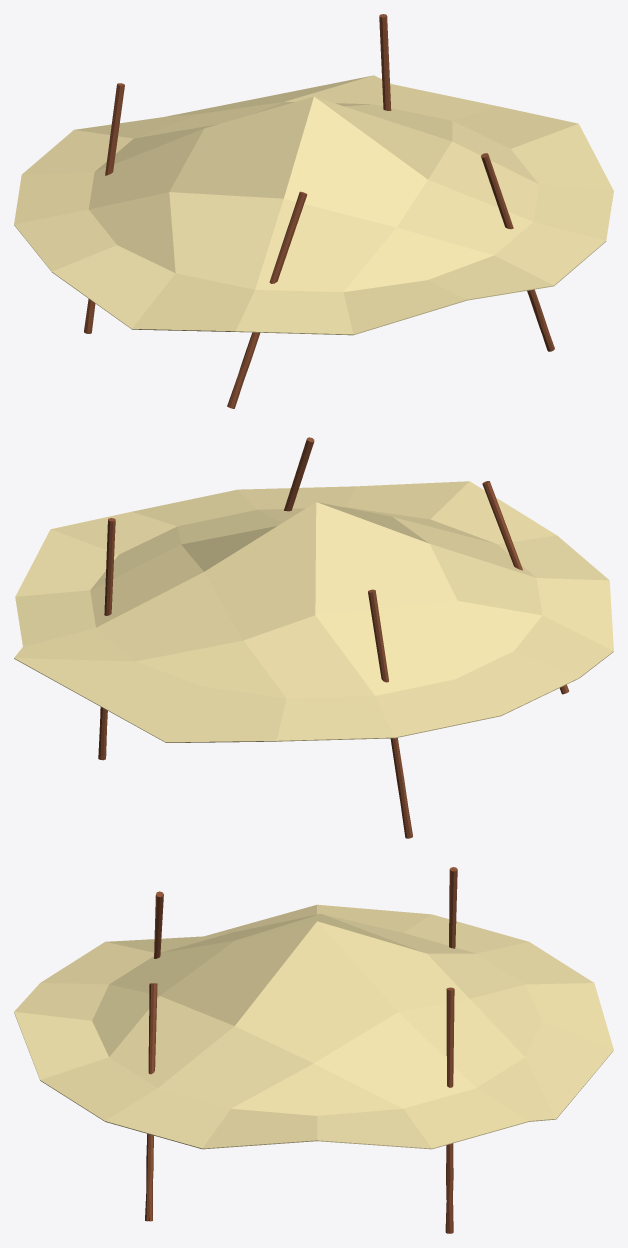
The model's file is Small shed roof.fbx.
3 renders of one model, top to bottom at view 1: azimuth 30°, elevation 25°; view 2: azimuth 150°, elevation 25°; view 3: azimuth 270°, elevation 25°, orthographic.
Parts seen in each view (by area): view 1: Small shed roof; view 2: Small shed roof; view 3: Small shed roof.
Part boxes in pixels (x1=…): Small shed roof: x1=14, y1=14, x2=613, y2=408; Small shed roof: x1=14, y1=437, x2=613, y2=838; Small shed roof: x1=14, y1=867, x2=613, y2=1233.
Size of the model in its own units: 507 by 227 by 504.
